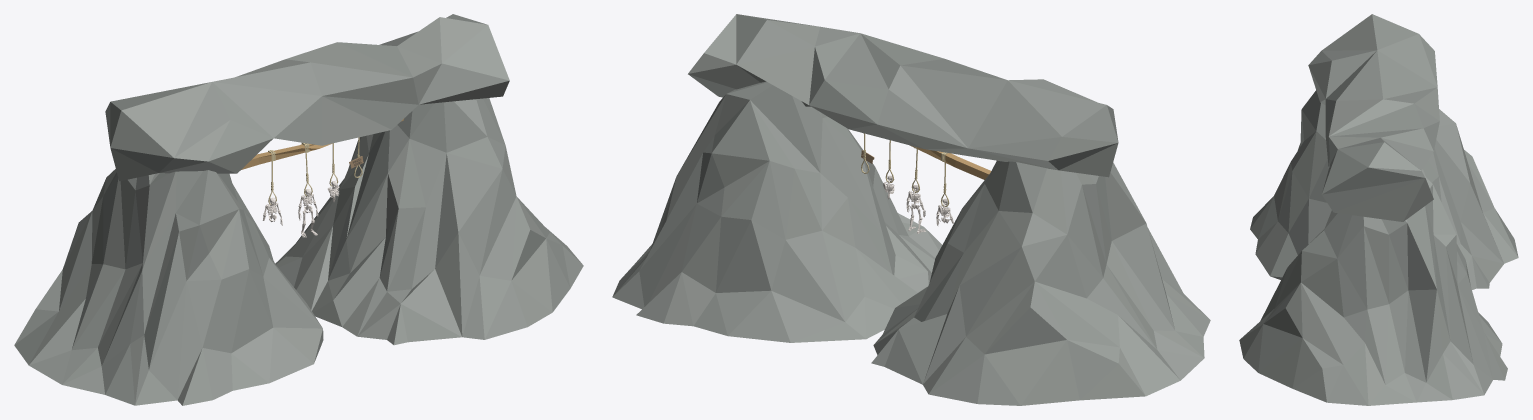
File: Big_Rock_1.fbx
3 views of the same model, side by side, from view 1: azimuth 30°, elevation 25°; view 2: azimuth 150°, elevation 25°; view 3: azimuth 270°, elevation 25° (orthographic). The views are drawn at different scales.
Parts seen in each view (by area): view 1: Big_Rock_1; view 2: Big_Rock_1; view 3: Big_Rock_1.
Part boxes in pixels (x1=…): Big_Rock_1: x1=14, y1=14, x2=583, y2=405; Big_Rock_1: x1=612, y1=14, x2=1210, y2=405; Big_Rock_1: x1=1239, y1=14, x2=1518, y2=405.
Bounding box in the file's own units: 3847 × 1754 × 2070.
Materials: 1 (1 with a texture image).
